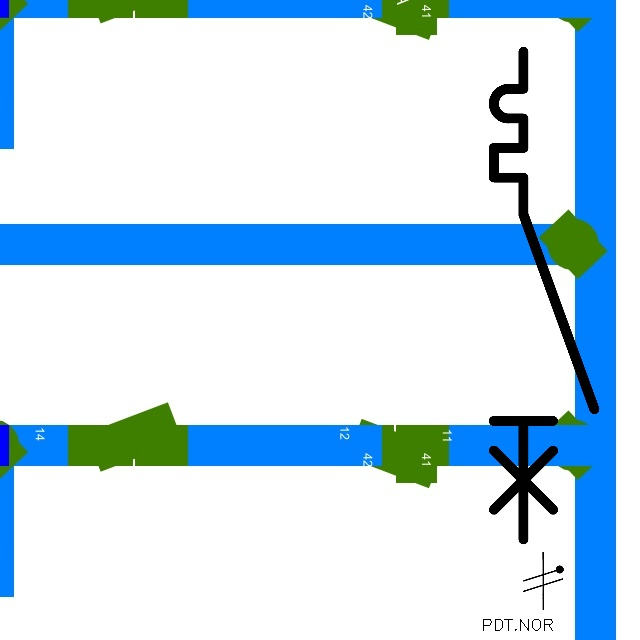interruptor_termomagnetico: (481, 39, 606, 552)
